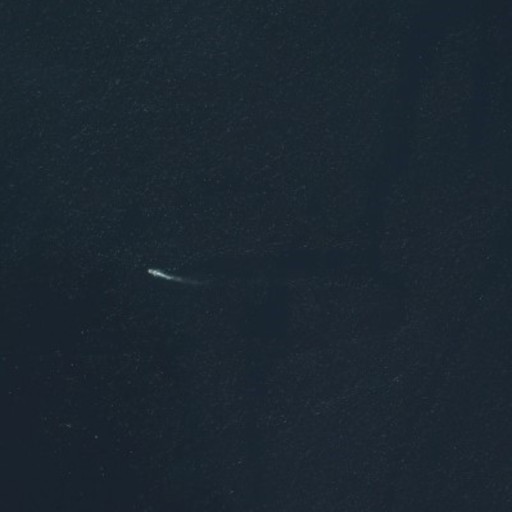ship: (144, 265, 163, 279)
